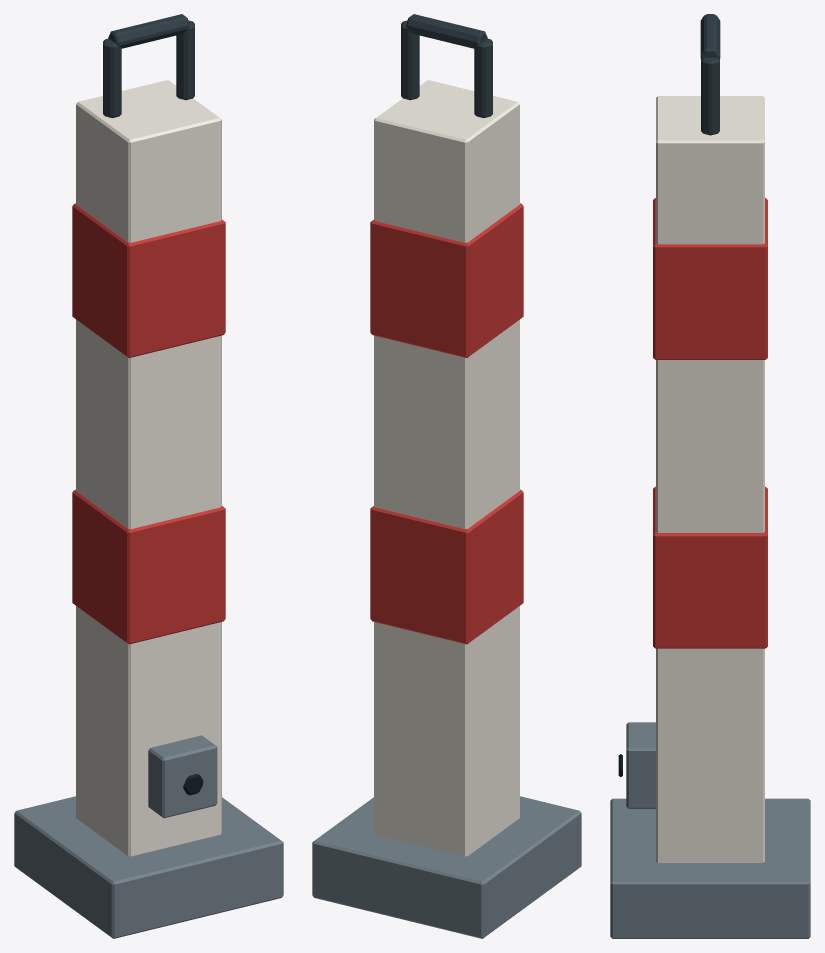
The model's file is b02_removable_locking_bollard.glb.
The picture shows the model from 3 angles, left to right: view 1: azimuth 30°, elevation 25°; view 2: azimuth 150°, elevation 25°; view 3: azimuth 270°, elevation 25°; orthographic projection.
Parts seen in each view (by area): view 1: b02_removable_locking_bollard; view 2: b02_removable_locking_bollard; view 3: b02_removable_locking_bollard.
Boxes of the visible parts, x1,y1,x2,y2 form: b02_removable_locking_bollard: [14, 14, 283, 938]; b02_removable_locking_bollard: [312, 14, 581, 938]; b02_removable_locking_bollard: [610, 14, 810, 938].
Size of the model in its own units: 0.22 by 1.05 by 0.22.
